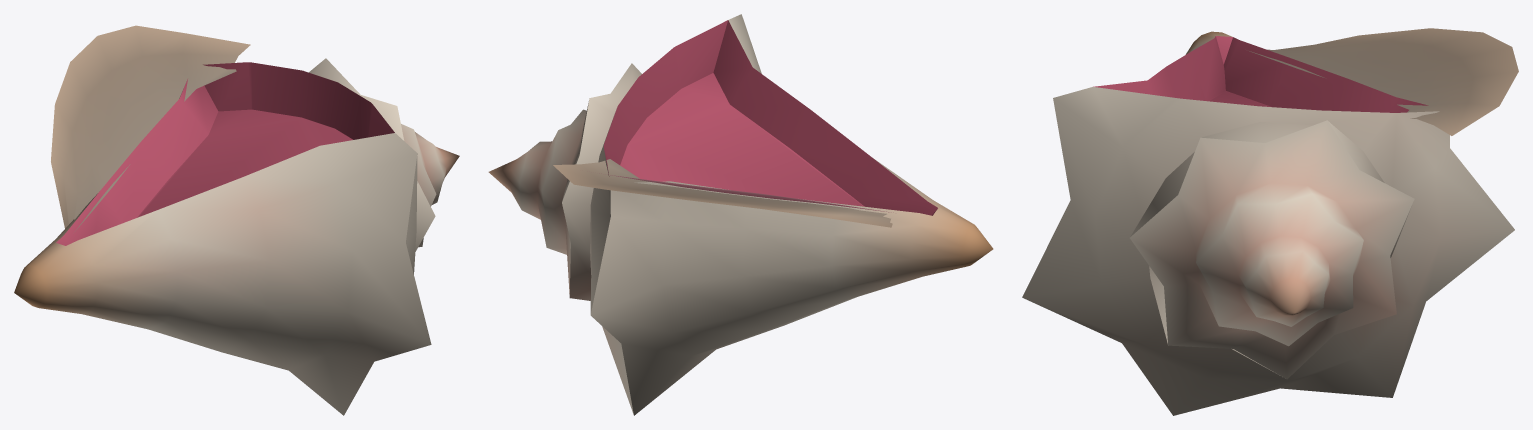
Rendered from shell_decor.glb.
3 renders of one model, left to right at view 1: azimuth 30°, elevation 25°; view 2: azimuth 150°, elevation 25°; view 3: azimuth 270°, elevation 25°, orthographic. The views are drawn at different scales.
Parts seen in each view (by area): view 1: shell_decor; view 2: shell_decor; view 3: shell_decor.
Boxes of the visible parts, bbox=[...] form: shell_decor: bbox=[14, 25, 459, 415]; shell_decor: bbox=[488, 14, 993, 415]; shell_decor: bbox=[1022, 28, 1518, 415].
Bounding box in the file's own units: 0.8912 × 0.5378 × 0.7183.
